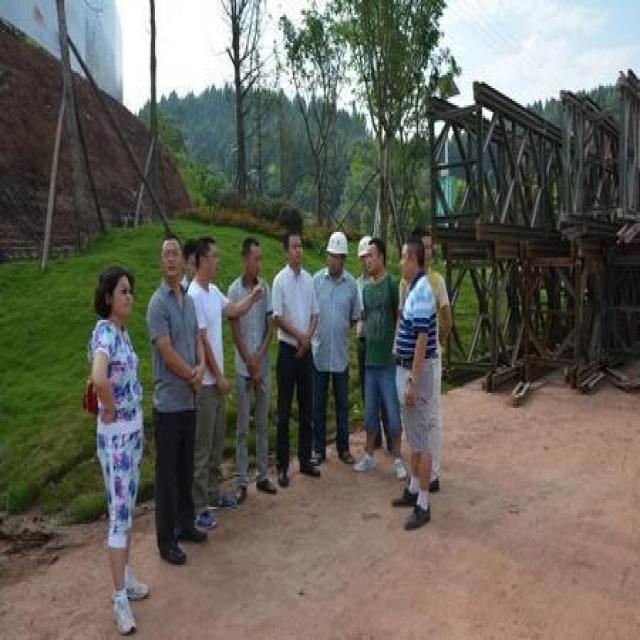hat: (323, 226, 353, 280), (357, 230, 374, 275)
